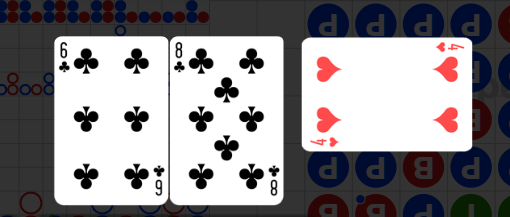4H: (434, 41, 465, 54)
6C: (58, 41, 72, 75)
8C: (266, 163, 280, 197)
